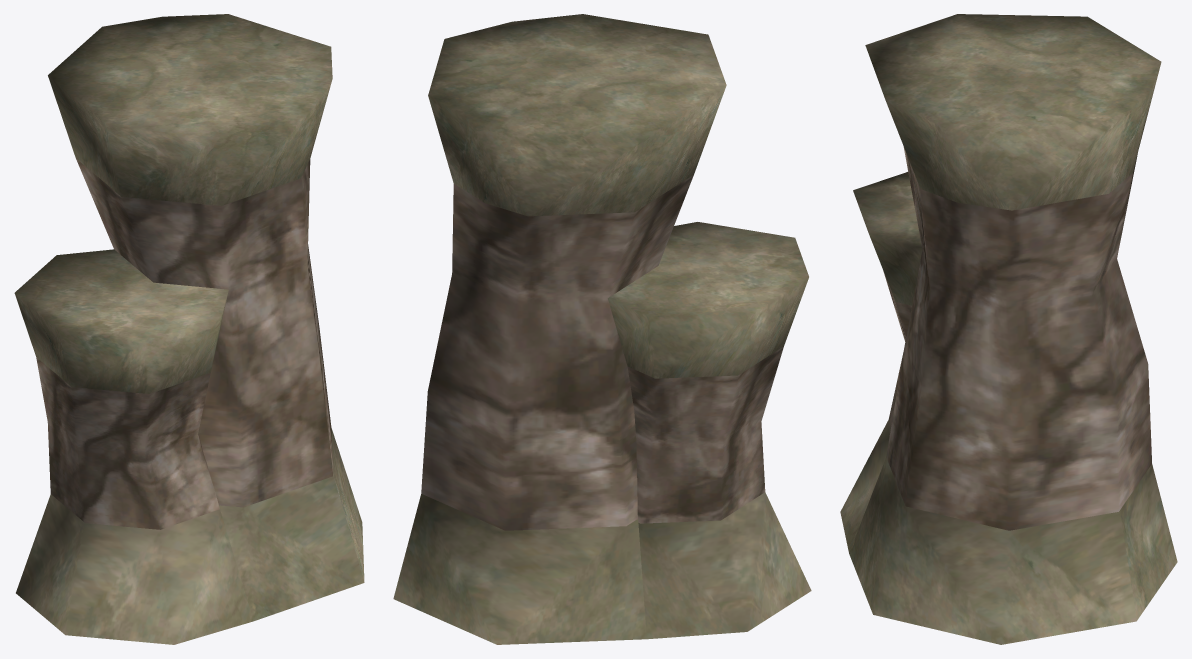
File: EKH_CAVERNS_PS_CA_PLAT_847463__GX.fbx
3 renders of one model, left to right at view 1: azimuth 30°, elevation 25°; view 2: azimuth 150°, elevation 25°; view 3: azimuth 270°, elevation 25°, orthographic. The views are drawn at different scales.
Parts seen in each view (by area): view 1: EKH_CAVERNS_PS_CA_PLAT_847463__GX; view 2: EKH_CAVERNS_PS_CA_PLAT_847463__GX; view 3: EKH_CAVERNS_PS_CA_PLAT_847463__GX.
Part boxes in pixels (box(x1,y1,x2,y2)): EKH_CAVERNS_PS_CA_PLAT_847463__GX: box(14, 14, 364, 644); EKH_CAVERNS_PS_CA_PLAT_847463__GX: box(393, 14, 811, 644); EKH_CAVERNS_PS_CA_PLAT_847463__GX: box(840, 14, 1177, 644).
Bounding box in the file's own units: 44069 × 60223 × 37054.
Materials: 2 (2 with a texture image).
